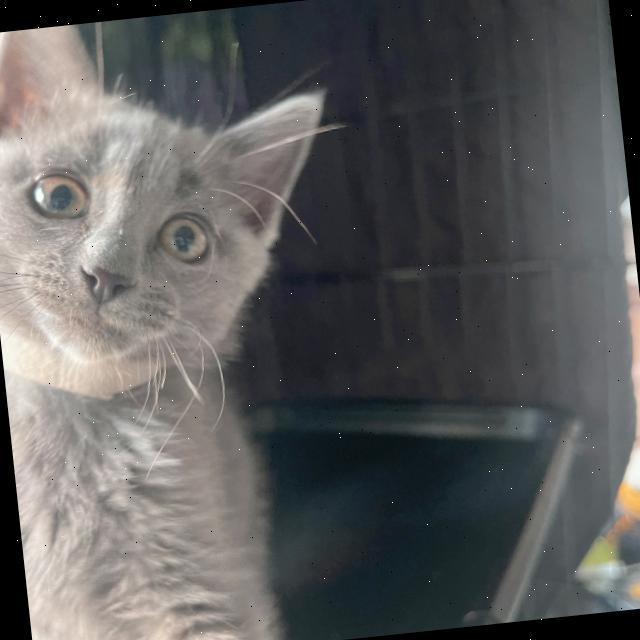russian_blue_cat: (0, 0, 373, 429)
